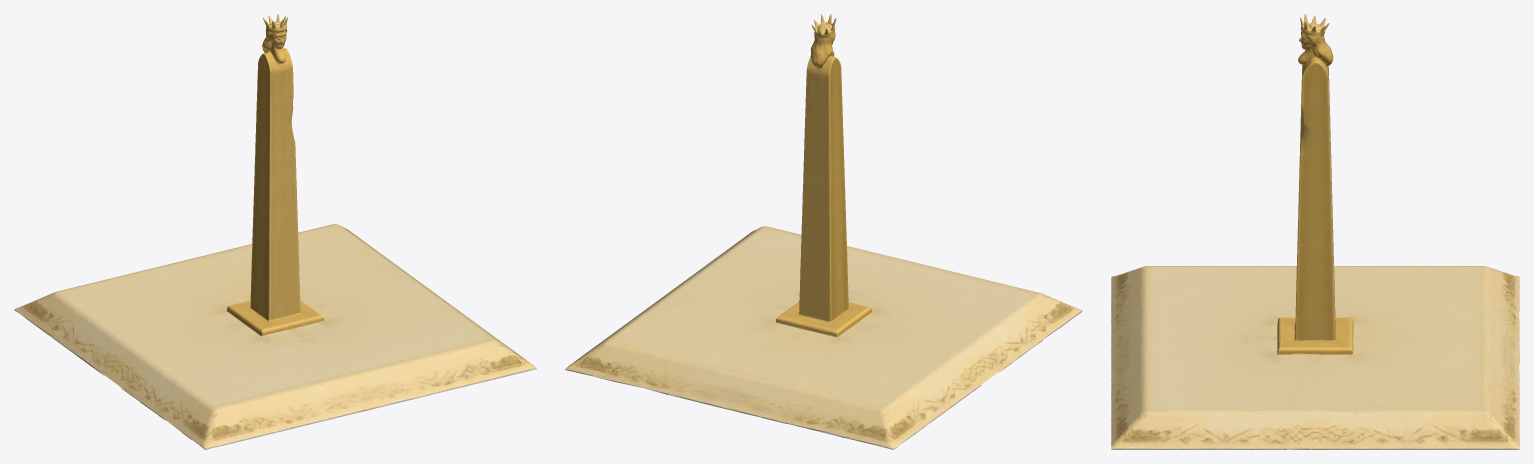
The model's file is dura.glb.
The picture shows the model from 3 angles, left to right: view 1: azimuth 30°, elevation 25°; view 2: azimuth 150°, elevation 25°; view 3: azimuth 270°, elevation 25°; orthographic projection. The views are drawn at different scales.
Bounding box in the file's own units: 1.9 × 1.78 × 1.9.
1 material, 1 textured.
